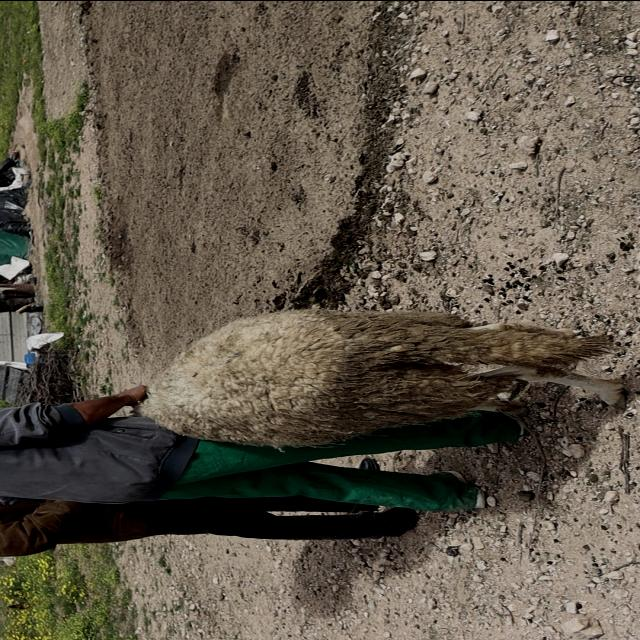Score_3: (142, 308, 625, 448)
